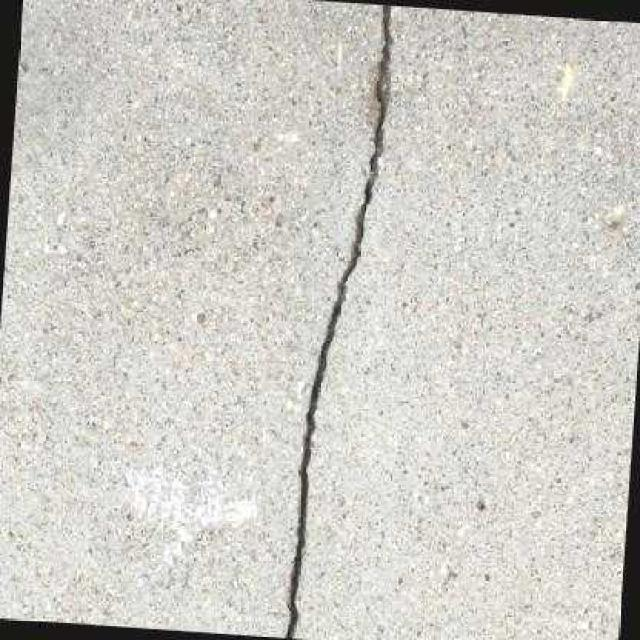D00: (284, 7, 390, 639)
